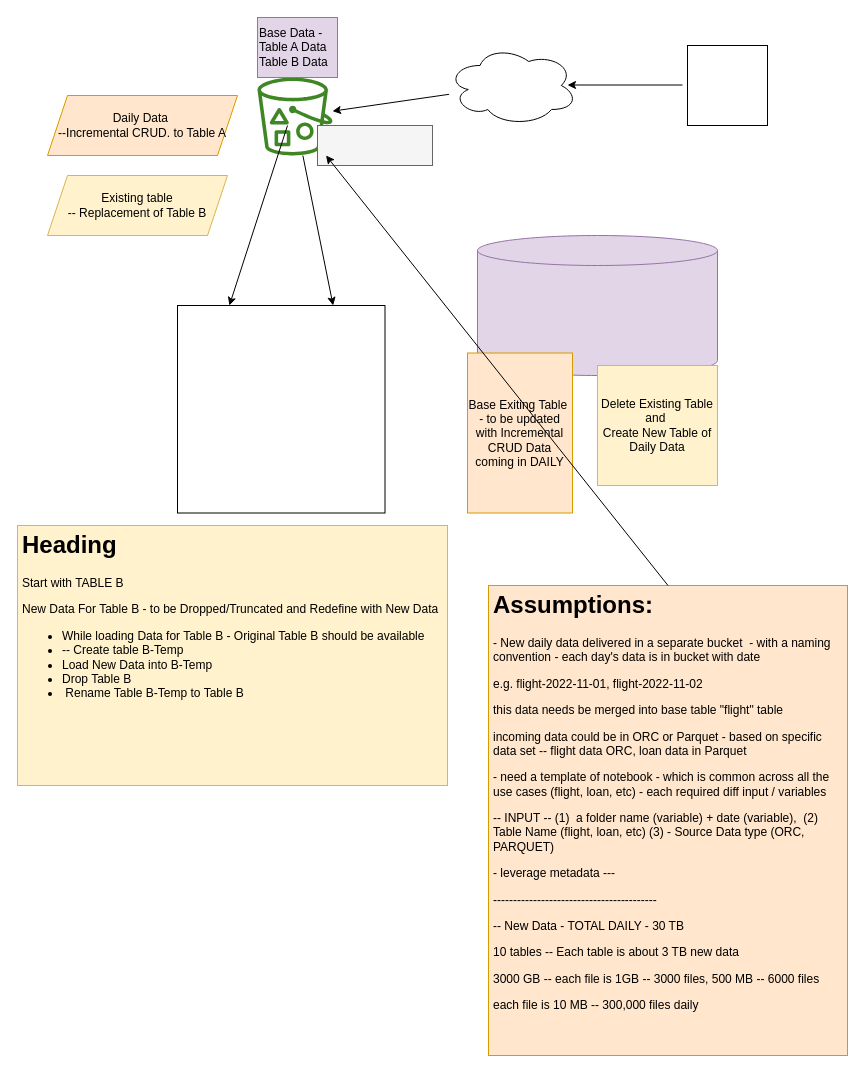
Some shapes in this 865 by 1073 pixel diagram are drawn without their labels. Each missing label, with the box of its shape:
Delta table With Base Data Table A Table B: (476, 234, 718, 376)
On-Prem Hadoop: (686, 44, 768, 126)
Parquet ORC: (316, 124, 432, 166)
